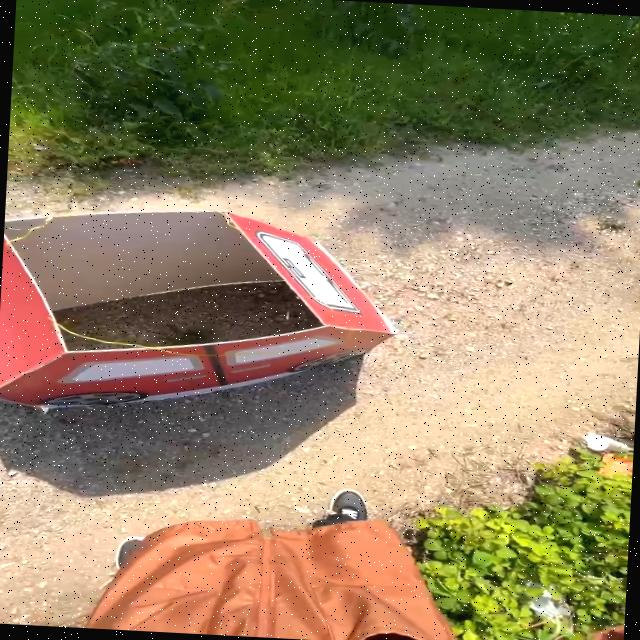red_car: (0, 182, 431, 463)
